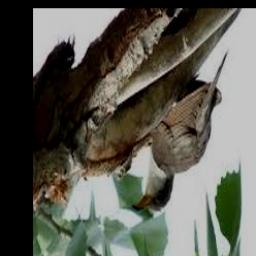Cuckoo: (132, 50, 228, 213)
